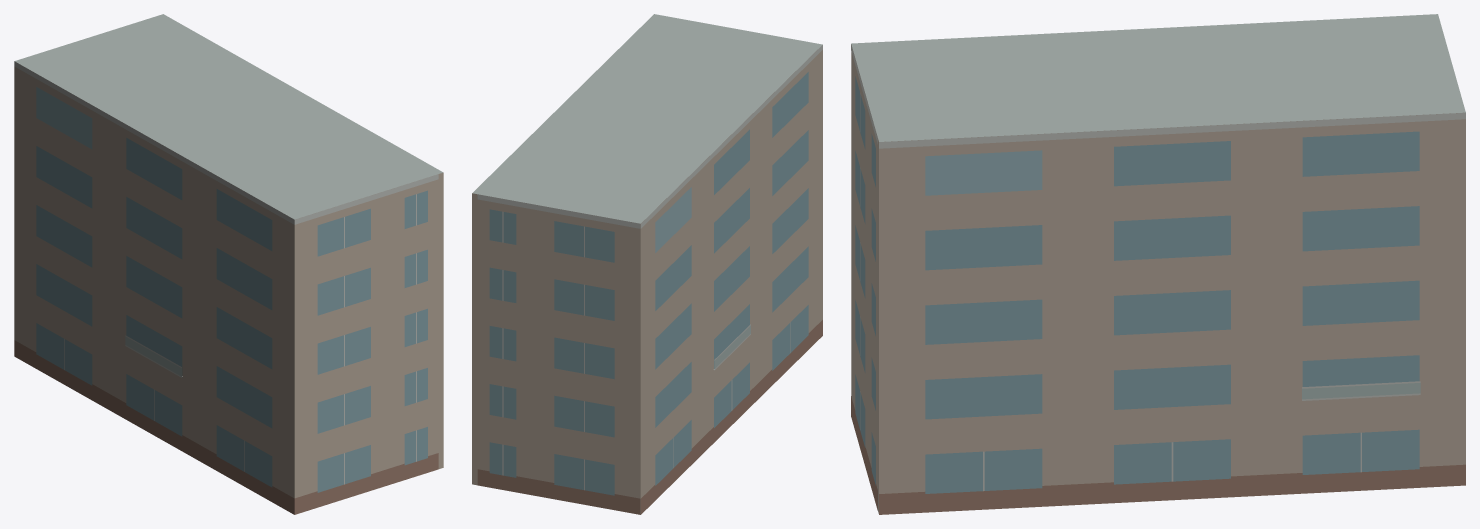
Rendered from survey-upis-32620018.glb.
3 views of the same model, side by side, from view 1: azimuth 30°, elevation 25°; view 2: azimuth 150°, elevation 25°; view 3: azimuth 270°, elevation 25° (orthographic). The views are drawn at different scales.
Visible parts, largest first — view 1: survey-upis-32620018.tmp; view 2: survey-upis-32620018.tmp; view 3: survey-upis-32620018.tmp.
Boxes of the visible parts, bbox=[...] form: survey-upis-32620018.tmp: bbox=[14, 14, 443, 514]; survey-upis-32620018.tmp: bbox=[472, 14, 822, 514]; survey-upis-32620018.tmp: bbox=[851, 14, 1465, 514].
Size of the model in its own units: 10.11 by 13.71 by 20.5.
